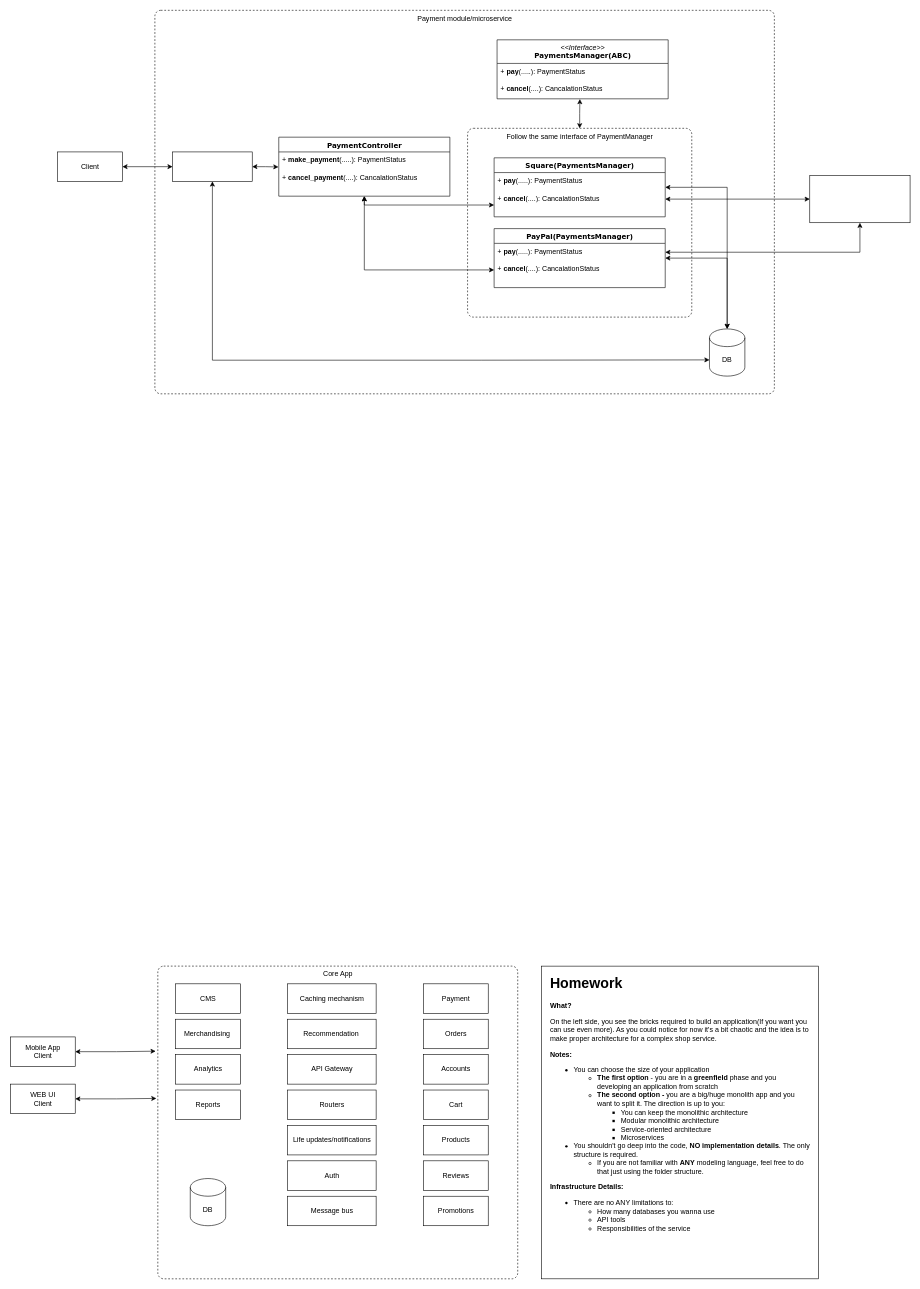
Some shapes in this 920 by 1289 pixel diagram are drawn without their labels. Each missing label, with the centre of its shape:
Authentication layer: (212,166)
ExternalPaymentService: (859,199)
